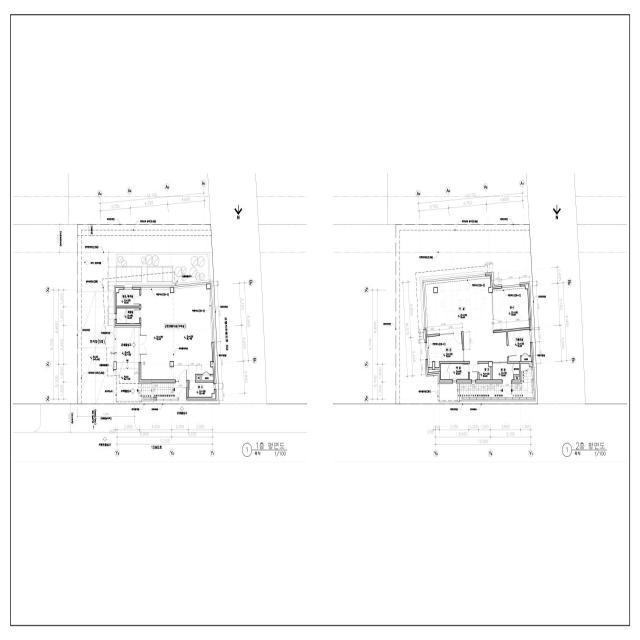space_bedroom: (493, 286, 529, 330), (427, 333, 463, 368)
space_front: (492, 363, 519, 380)
space_living_room: (424, 276, 507, 380)
space_multipurpose_space: (508, 330, 531, 361)
space_other: (141, 285, 213, 380), (117, 290, 139, 306), (189, 383, 214, 397), (479, 364, 491, 380), (202, 375, 214, 380), (521, 357, 531, 361), (428, 370, 439, 372), (197, 376, 201, 380), (515, 377, 519, 380)
space_staircase: (438, 364, 533, 401), (139, 382, 187, 397)
space_toilet: (441, 364, 468, 379), (117, 308, 139, 323)
